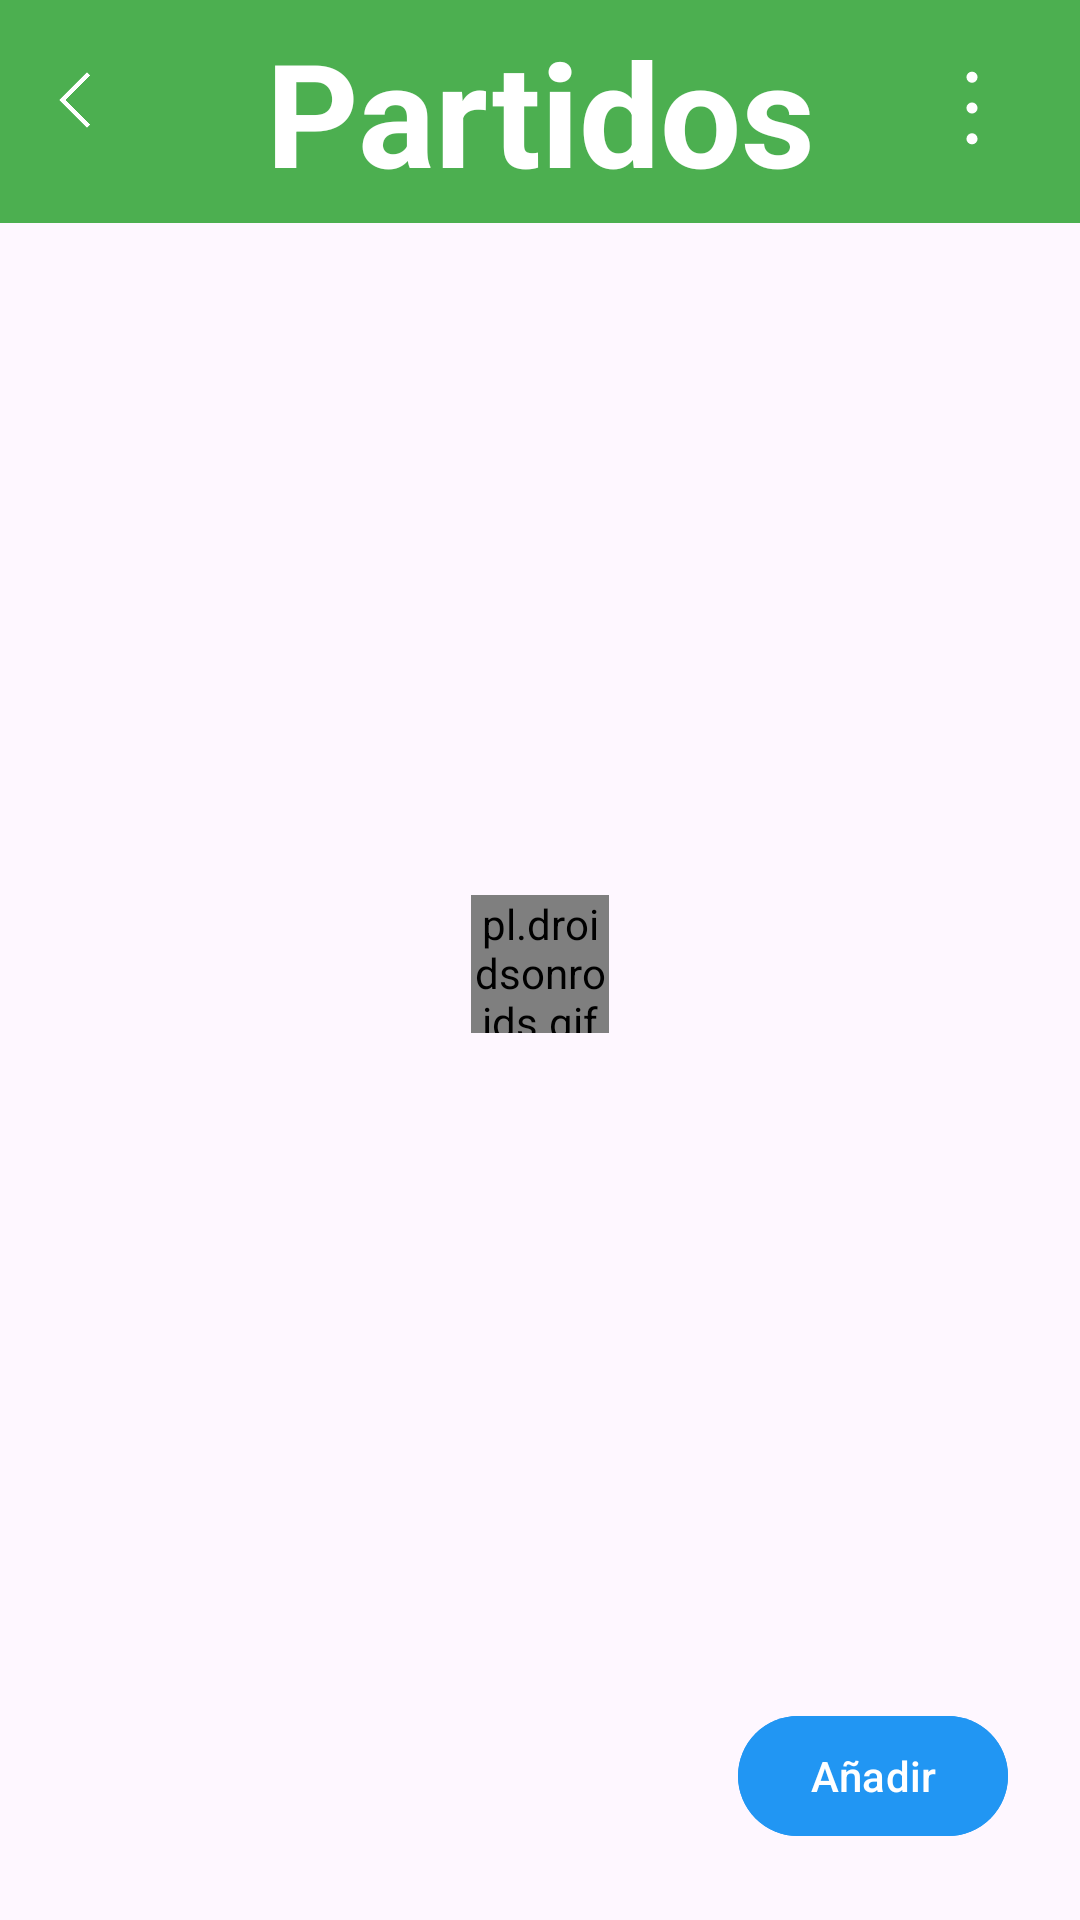

Icons on this 1080px×1920px Android screen, each with its box as (x1, y1, x2, y2):
arrow back: (59, 72, 90, 128)
